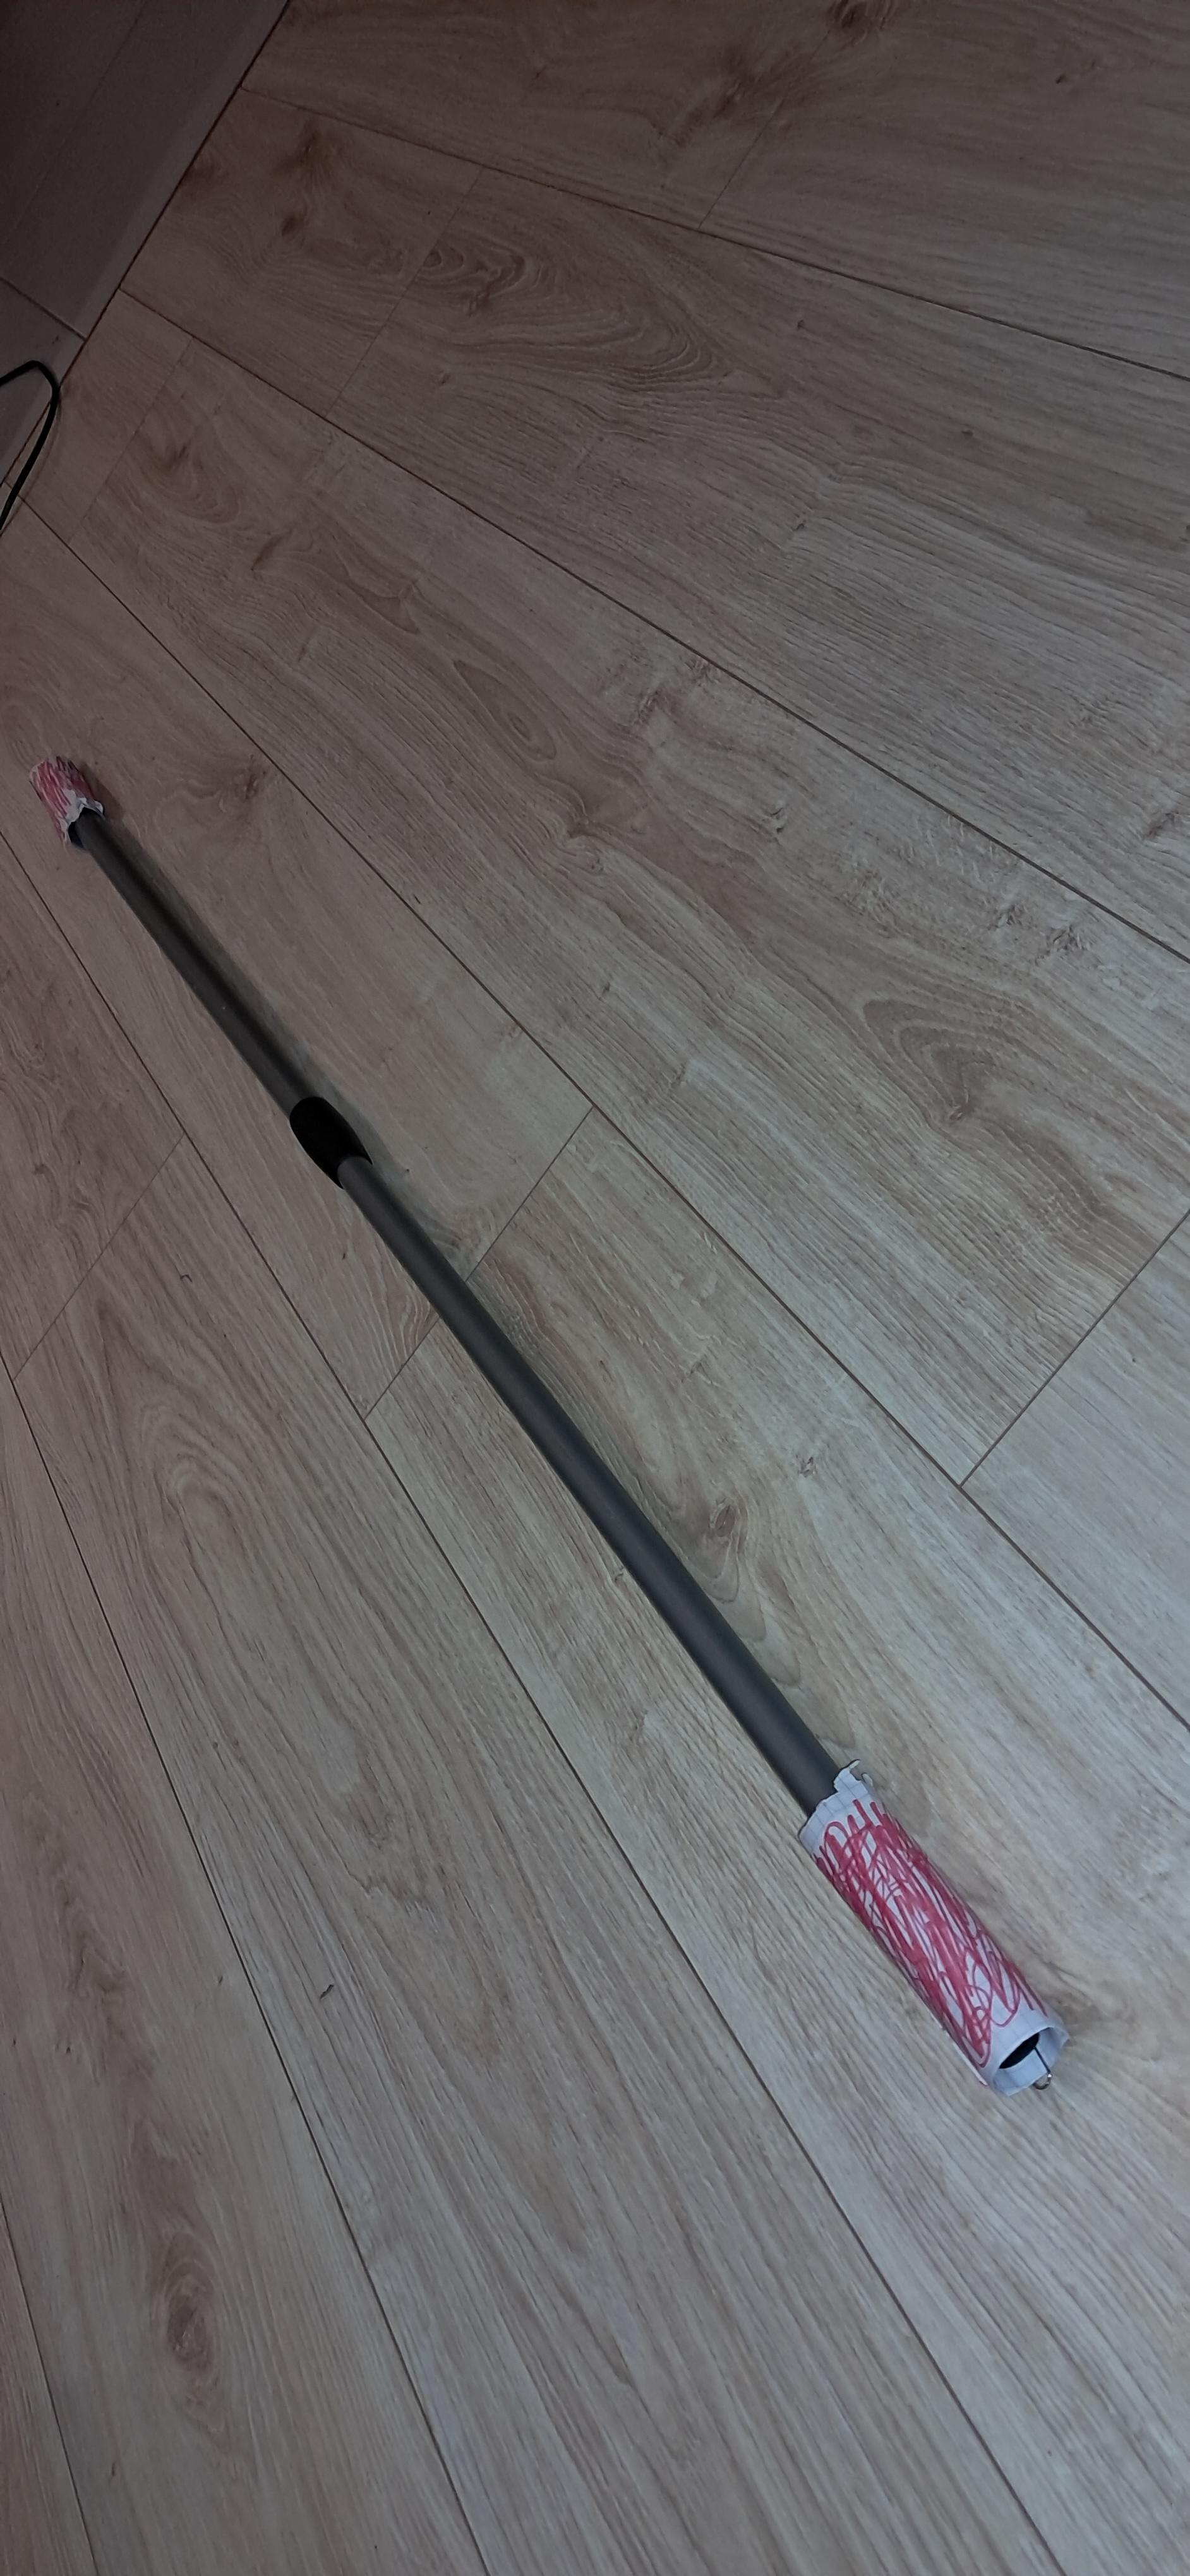broom-handle: (30, 759, 1065, 2096)
